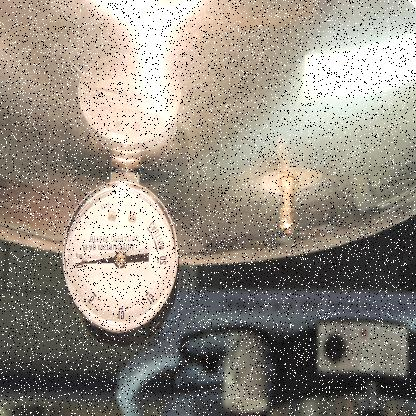needle: (73, 256, 114, 268)
